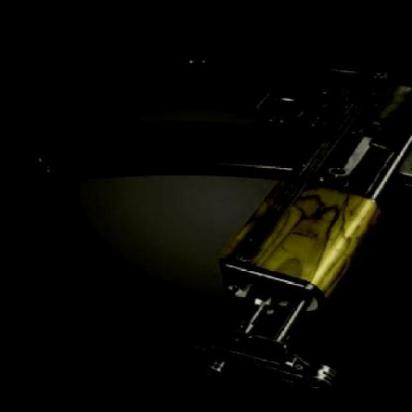Gun: (0, 0, 412, 401)
